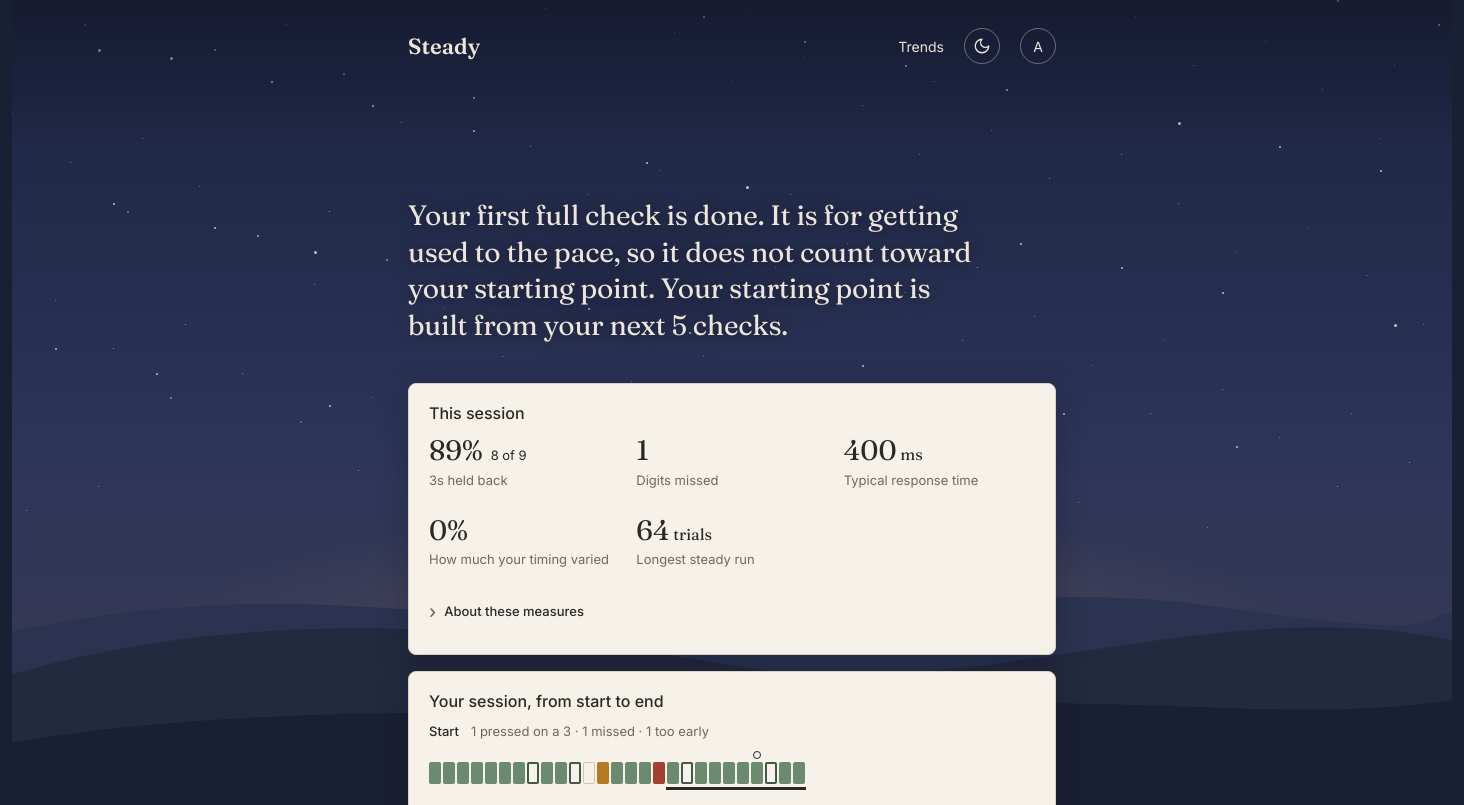
Test: Results › does not show the previous player's session after switching player
The width and height of the screenshot is (1464, 805).
Expected: the element "3s held back" is shown, [429,433,527,488]
Click the button named "Player: Ana" at x=1038, y=46, box [1020,28,1056,64]
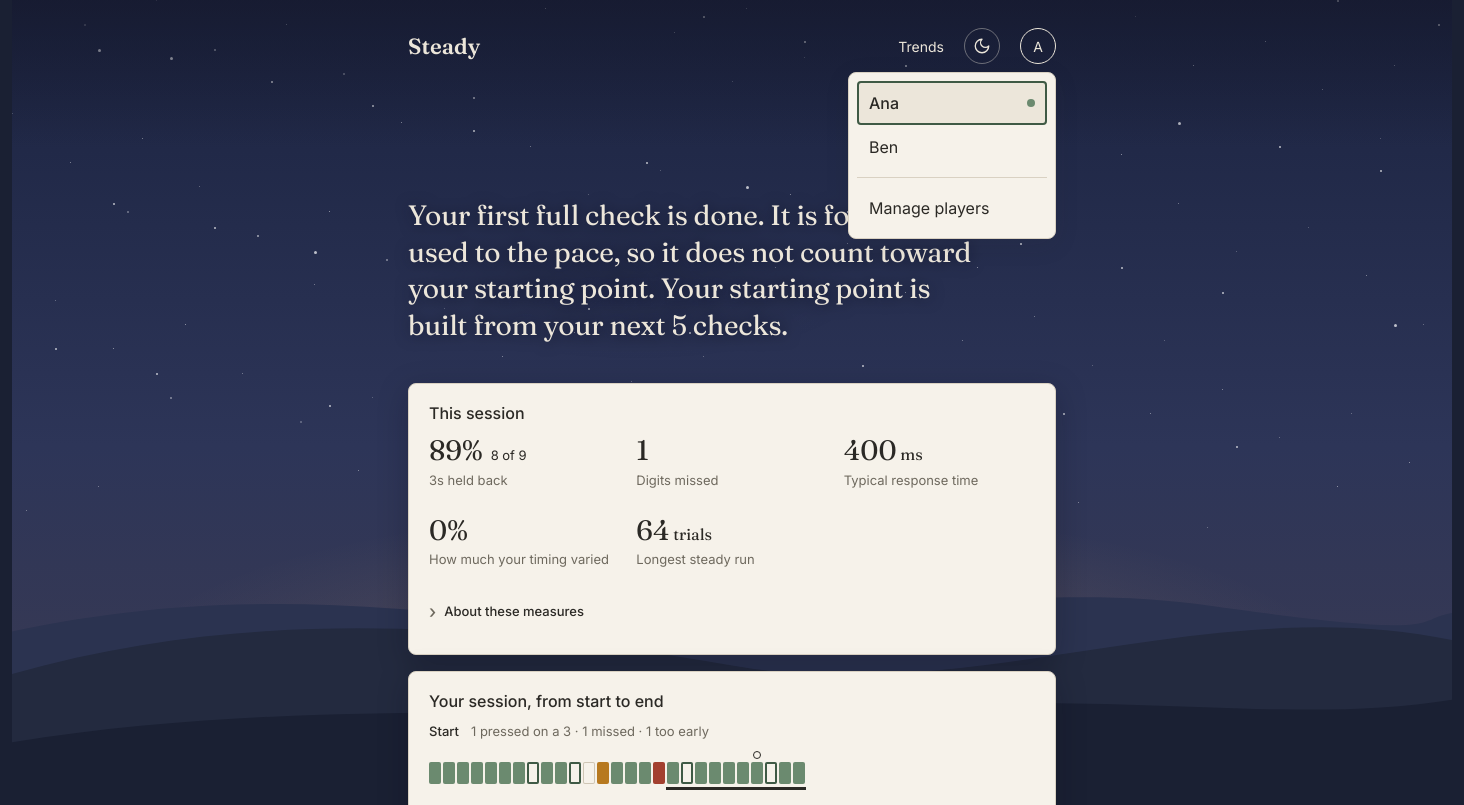
Click the menu item "Ben" at x=952, y=147, box [857,125,1047,169]
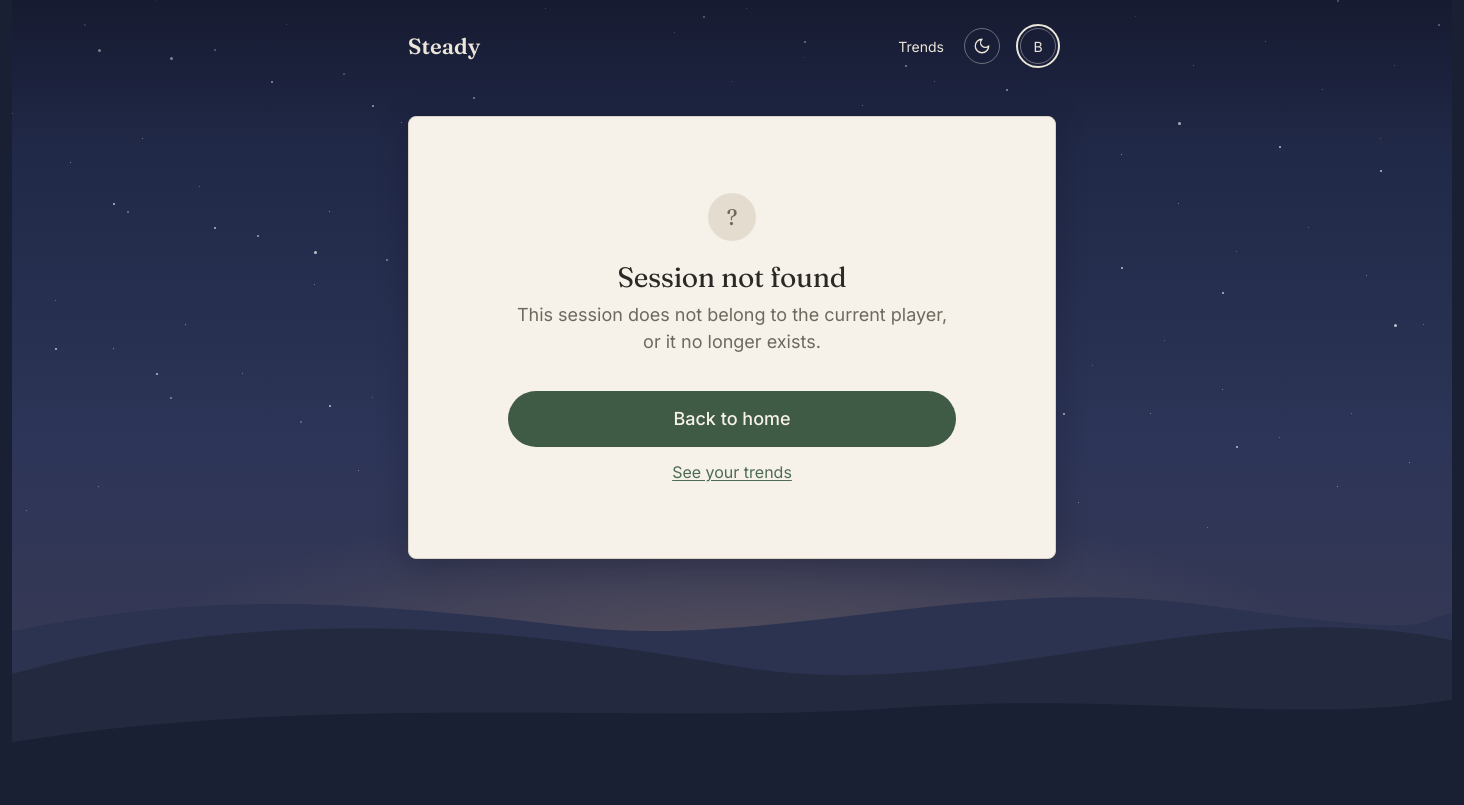
Expected: the heading "Session not found" is shown, [618,261,846,293]
Expected: the text "3s held back" is gone
